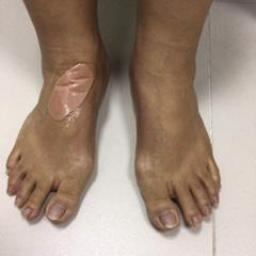Dorsal View -Both Feet-: (6, 20, 228, 243)
